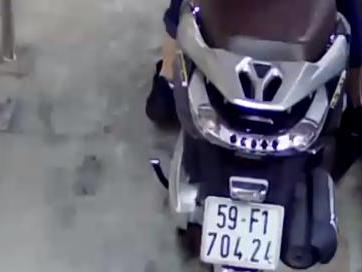num_plate: (199, 195, 284, 271)
